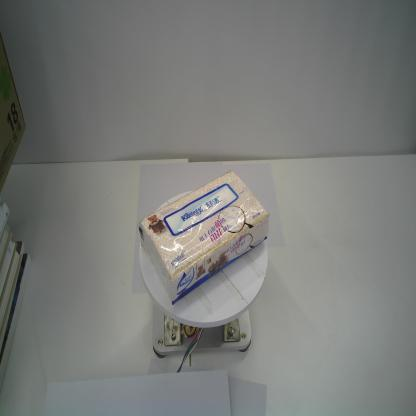Tissue: (138, 167, 272, 306)
